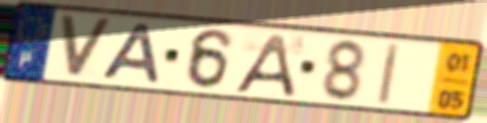6: (184, 27, 236, 91)
8: (320, 38, 370, 104)
A: (230, 32, 298, 99), (98, 21, 163, 87)
I: (374, 41, 403, 108)
V: (57, 12, 116, 82)
